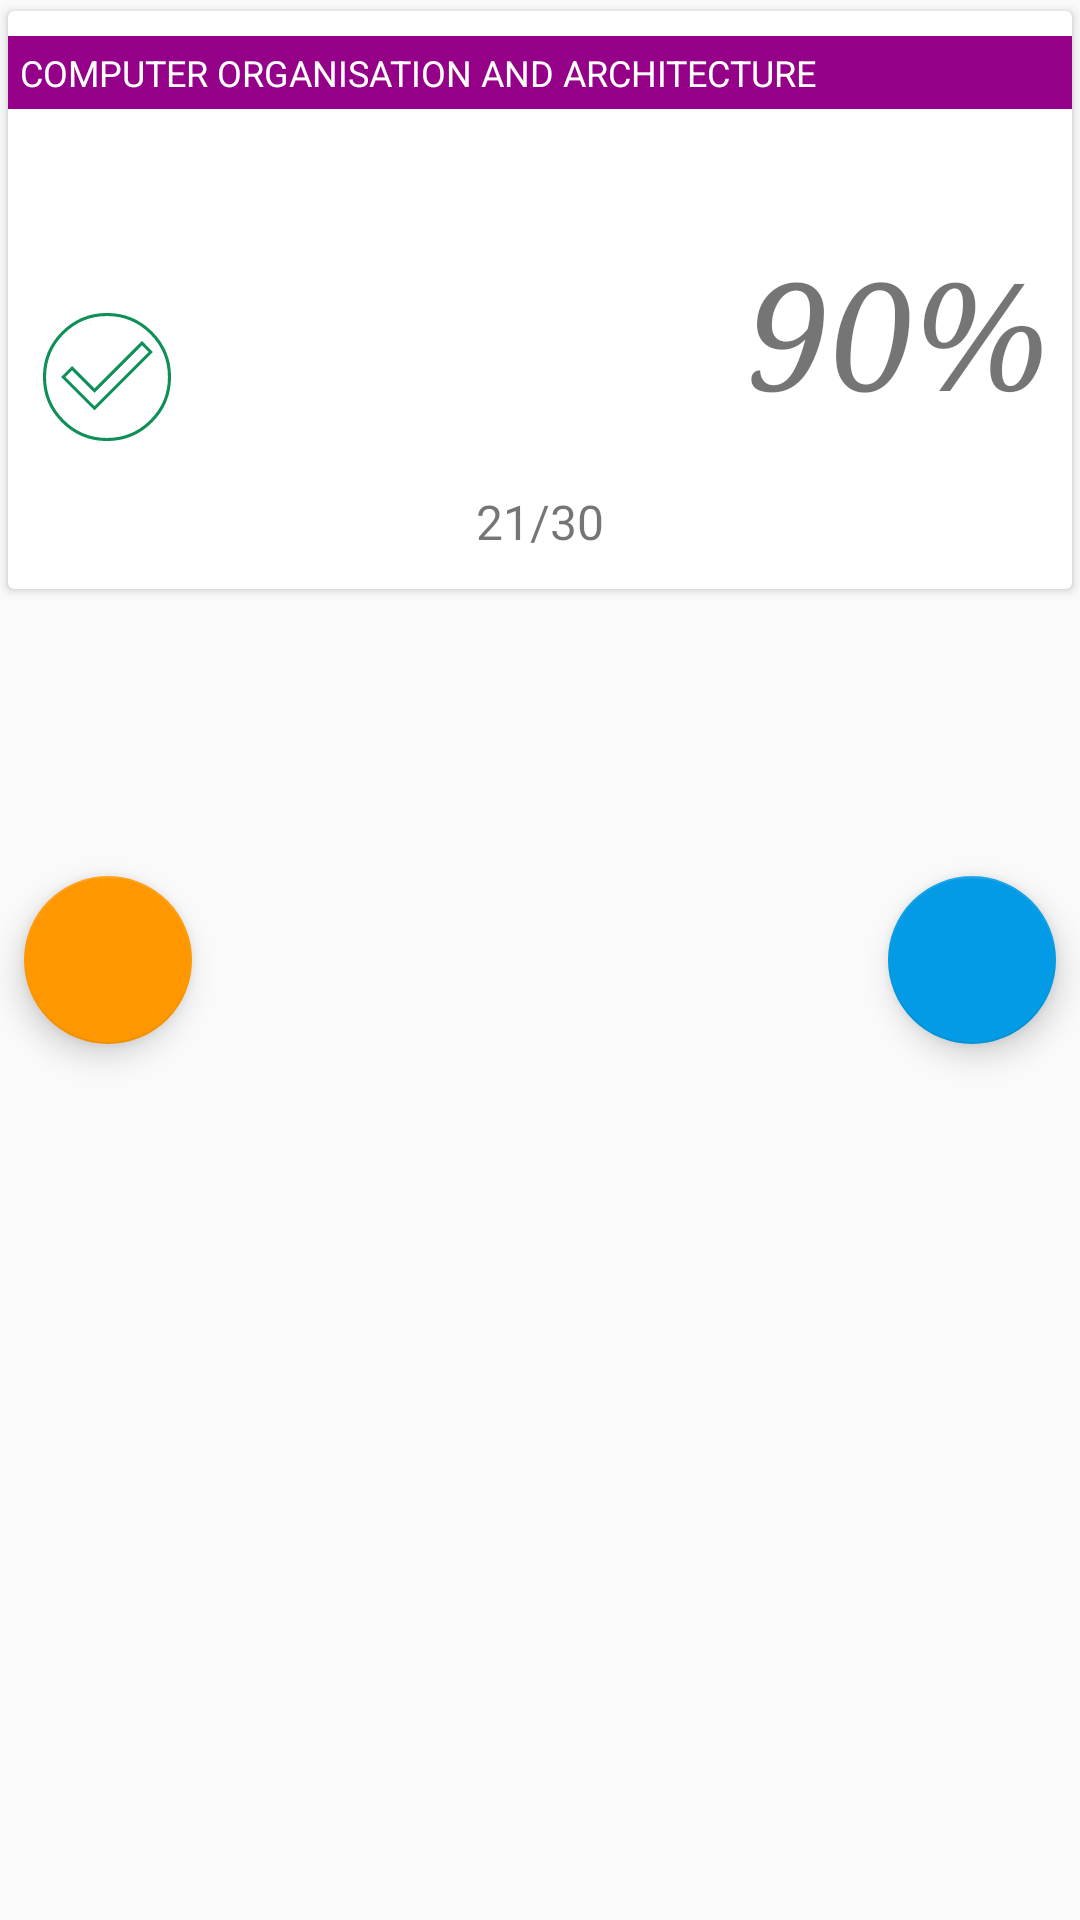

Icon click points for this 1080 x 1920 phone screenshot, format point (x, y):
attending: point (107, 377)
